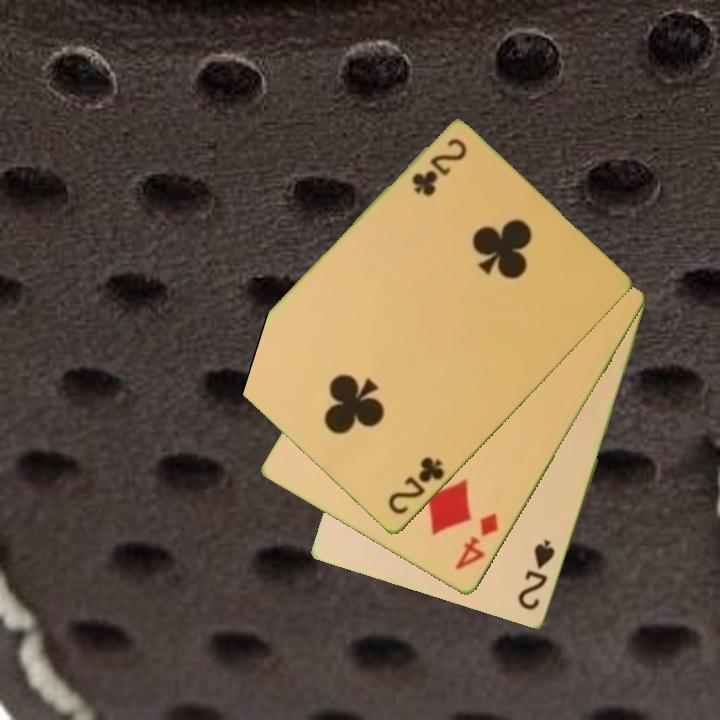2c: (384, 453, 448, 518), (408, 135, 470, 200)
2s: (515, 537, 559, 614)
4d: (451, 510, 502, 574)
